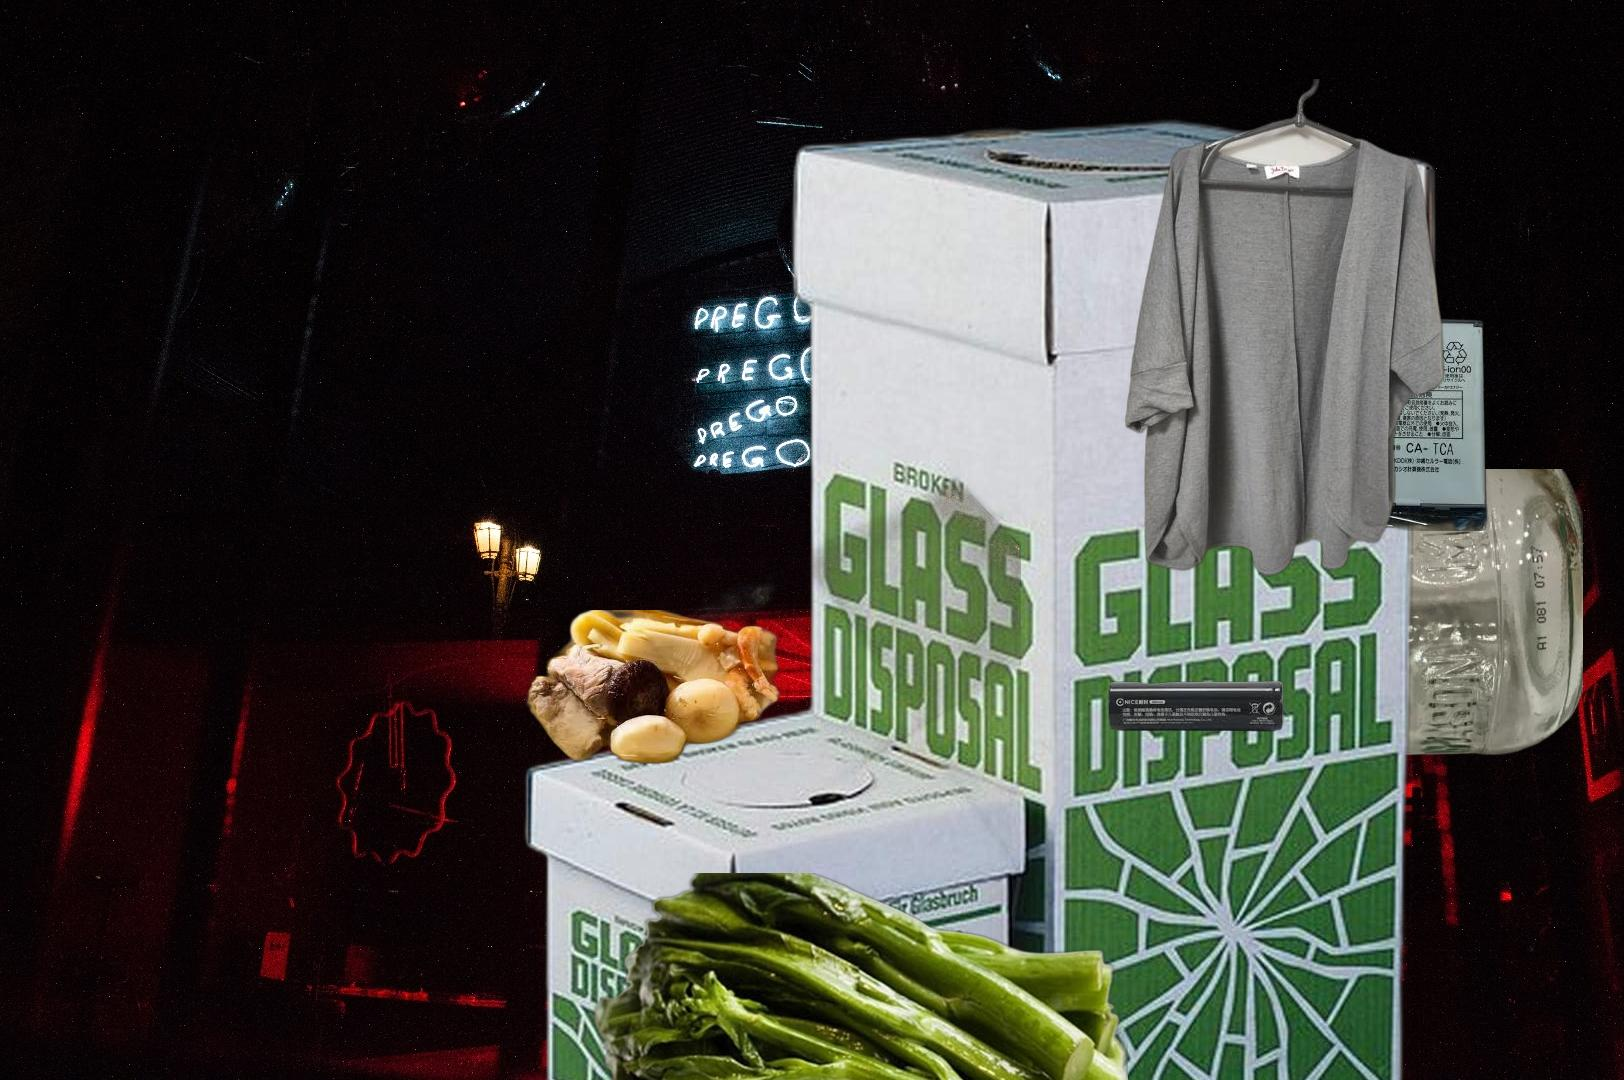battery: (1346, 313, 1493, 532), (1105, 677, 1285, 734)
biological: (581, 873, 1128, 1080), (510, 610, 785, 765)
clothes: (1122, 80, 1447, 580)
glass: (508, 225, 1020, 909), (1071, 469, 1583, 811)
trashbox-cardboard: (517, 108, 1444, 1080)
